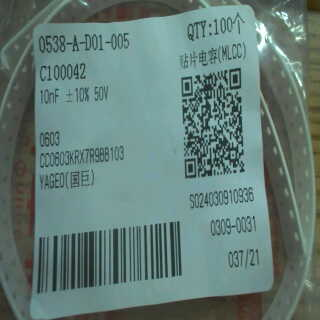10nF: (37, 87, 62, 107)
